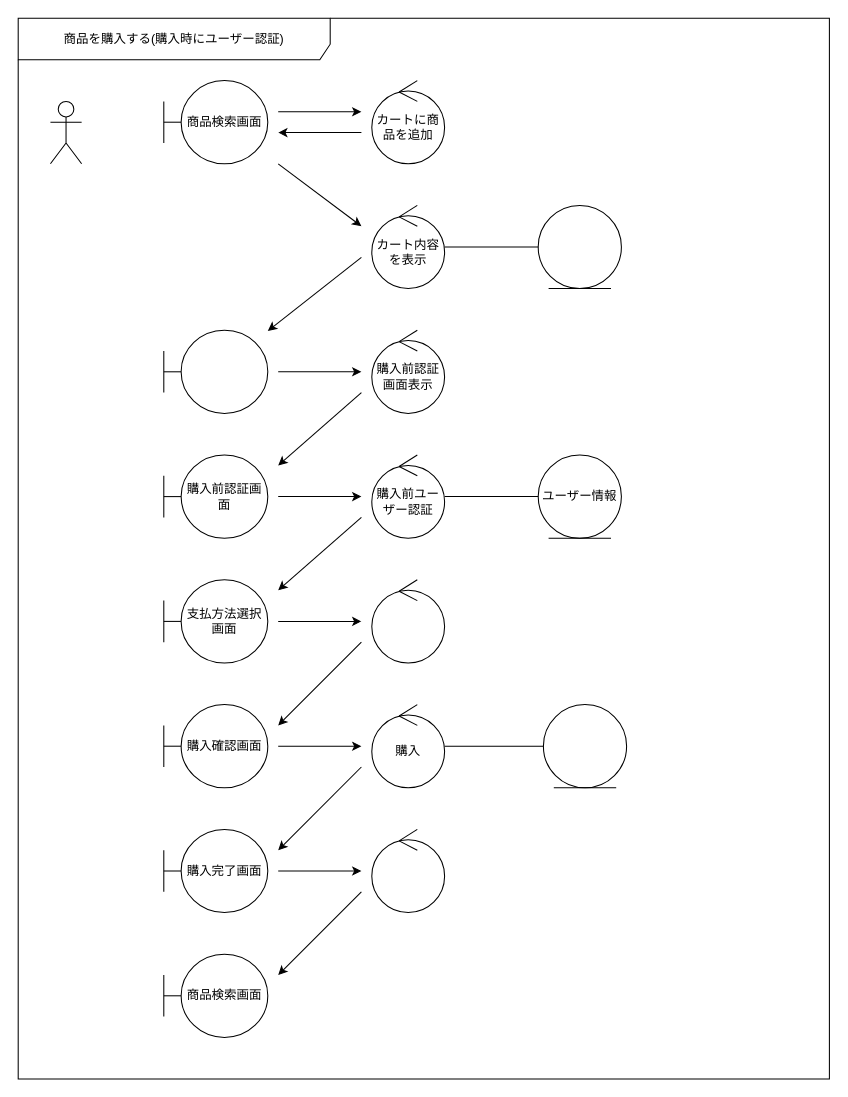
The diagram is 848 pixels wide and 1097 high, and some of its shapes have lost their labels. Each missing label, with the centre of its shape:
"カート内容一覧画面" goes at point (215, 371).
"受注情報" goes at point (584, 746).
"商品情報" goes at point (579, 246).
"商品検索画面表示" goes at point (408, 870).
"支払方法選択" goes at point (408, 621).
"登録ユーザー" goes at point (65, 132).
